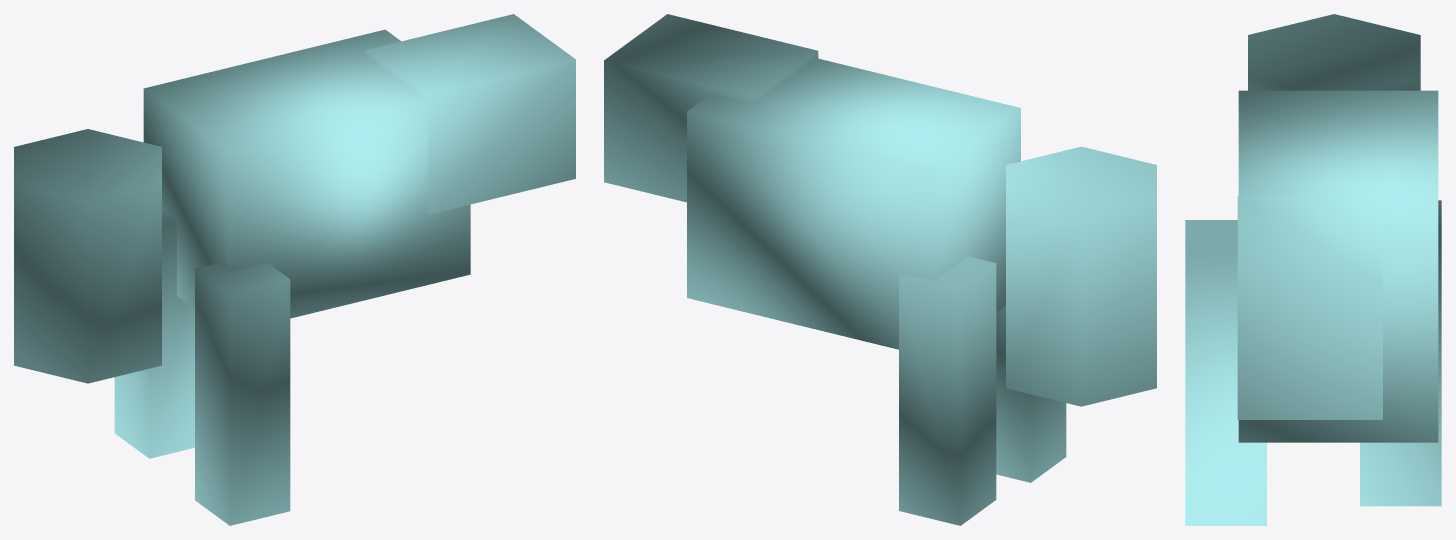
The model's file is ps2_jrpg_dungeon_golem_sentinel_enemy.obj.
The picture shows the model from 3 angles, left to right: view 1: azimuth 30°, elevation 25°; view 2: azimuth 150°, elevation 25°; view 3: azimuth 270°, elevation 25°; orthographic projection. The views are drawn at different scales.
Size of the model in its own units: 1.55 by 1.03 by 0.5653.
